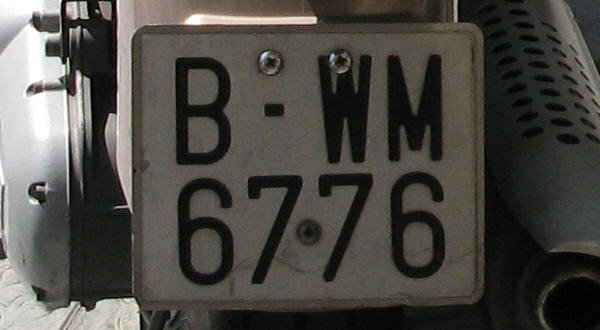license_plate: (133, 25, 484, 308)
